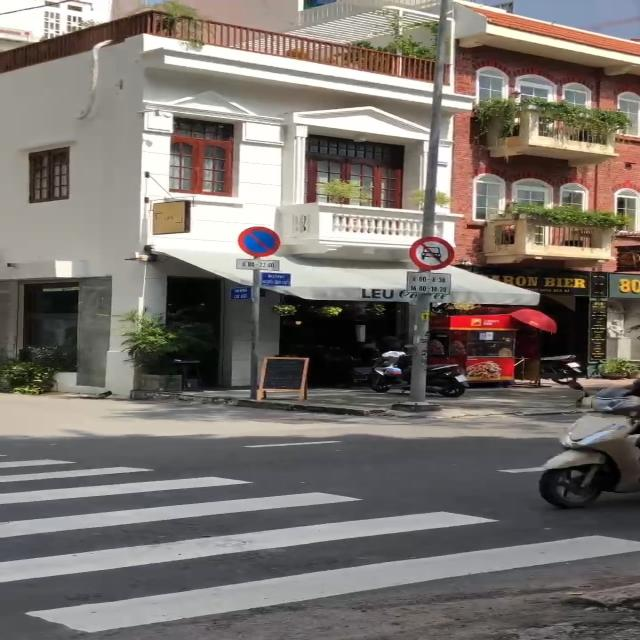Bien bao cam do xe: (234, 224, 283, 257)
Bien bao cam xe oto: (405, 235, 459, 272)
